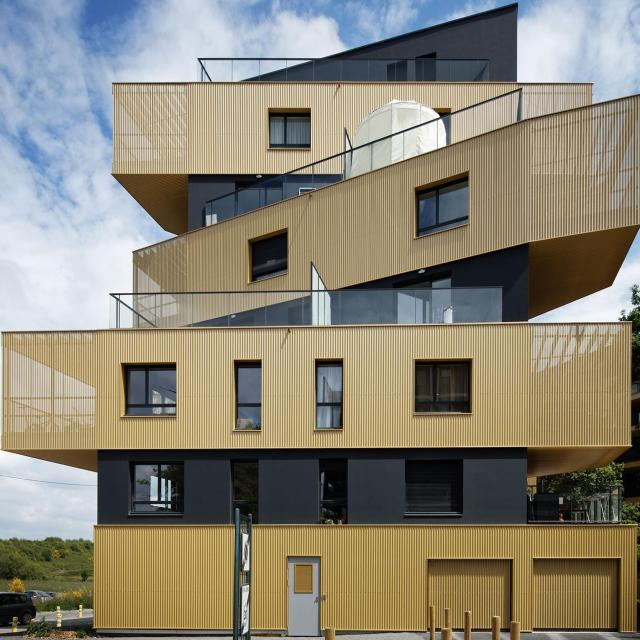door: (287, 556, 319, 631)
railing: (207, 88, 522, 226), (112, 292, 502, 324), (203, 59, 492, 82), (527, 484, 624, 521)
window: (404, 460, 459, 513), (415, 181, 467, 235), (415, 361, 470, 410), (134, 460, 185, 512), (127, 369, 177, 414), (320, 459, 348, 523), (317, 363, 343, 427), (231, 460, 259, 517), (253, 233, 288, 275), (270, 115, 311, 148), (241, 366, 263, 427)
